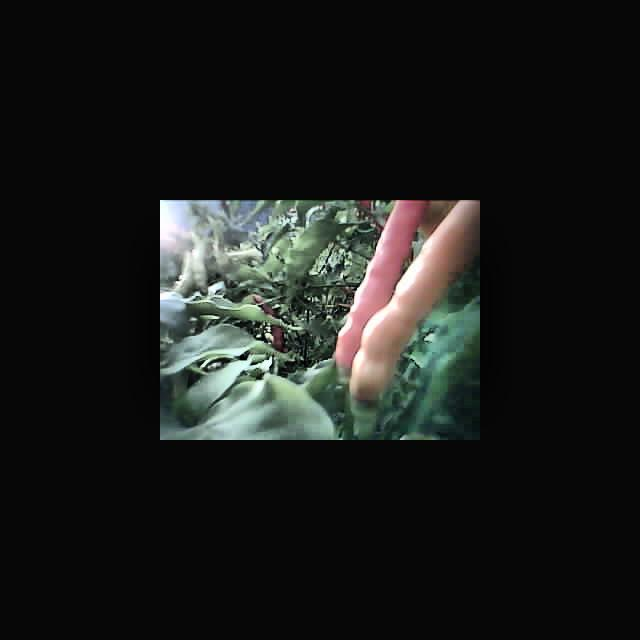Cabai: (404, 201, 479, 327), (369, 200, 407, 290), (255, 292, 286, 353)
